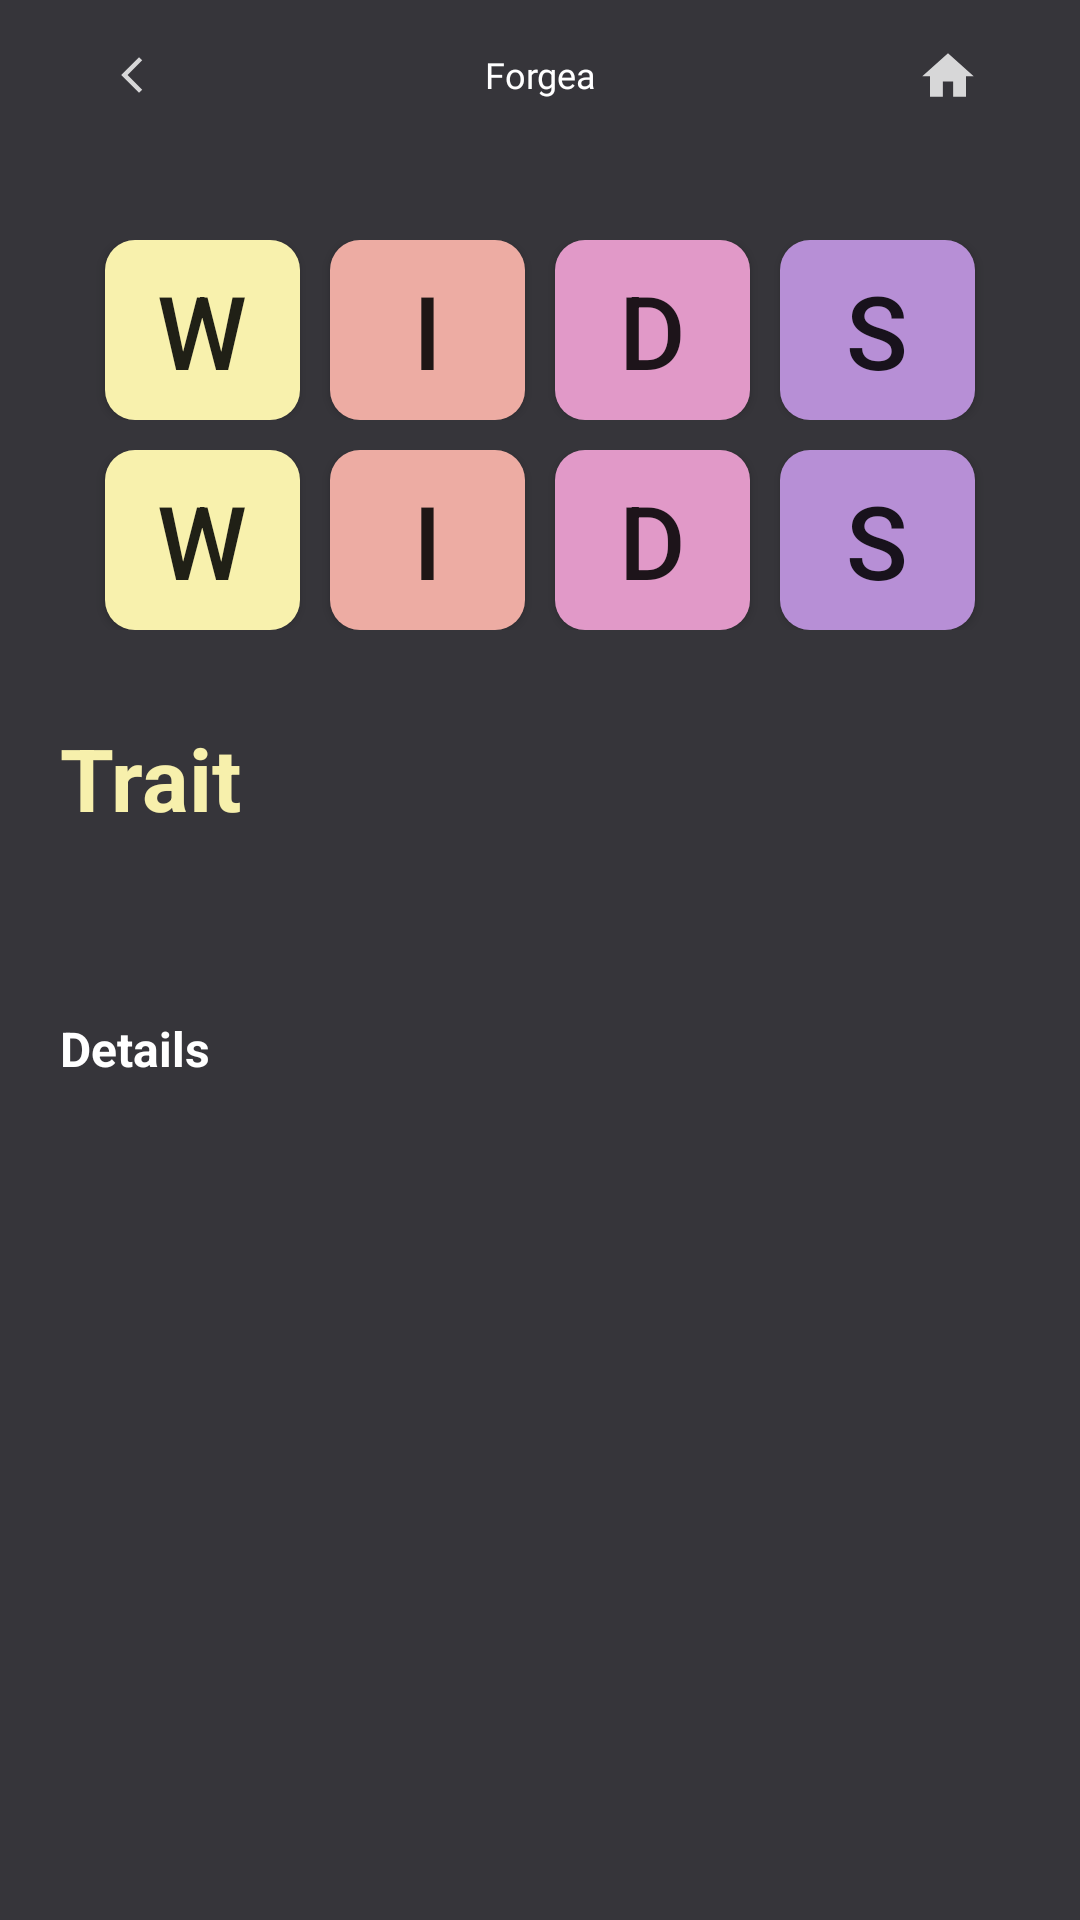

Icon bounding boxes for this 1080x1920 phone screenshot, format [x1,y1,x2,y2]:
back arrow: [121,57,142,93]
home: [923,53,973,97]
